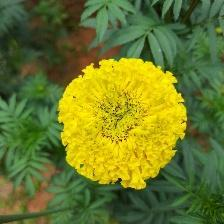marigold: (59, 57, 191, 190)
